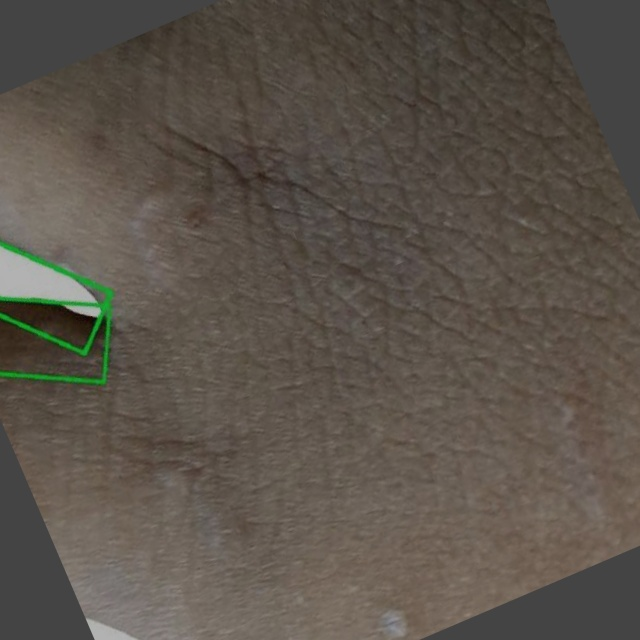Scabies: (0, 284, 118, 381)
